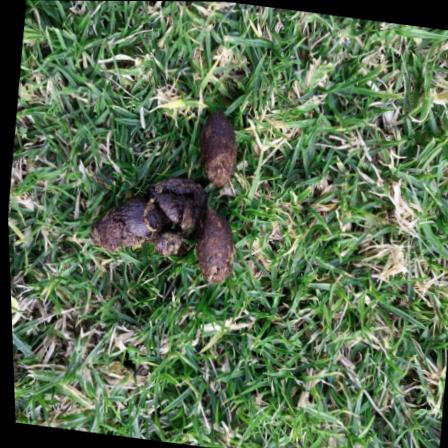dog-poop: (73, 91, 256, 323)
